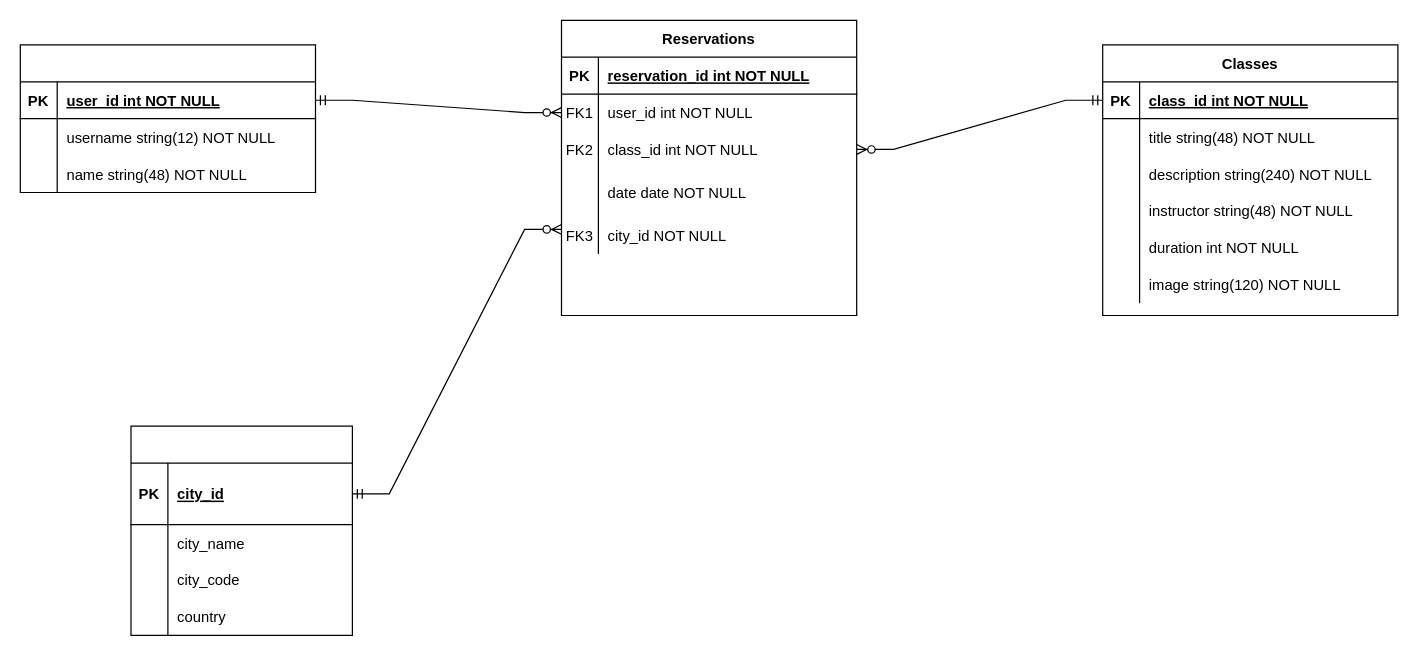
This 1418x656 diagram has some shape labels left out. Here are the shapes that lost their labels. From the top down, the box of each, then its label:
(19, 44, 315, 192): Users
(130, 425, 352, 635): Cities
